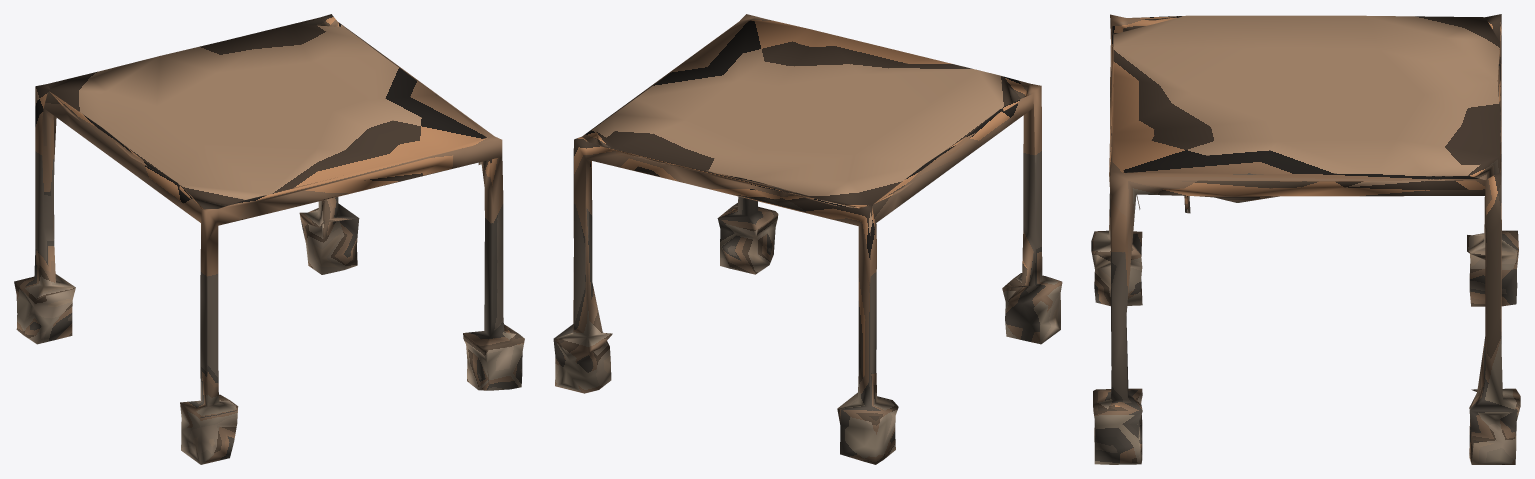
The model's file is pergola.glb.
The picture shows the model from 3 angles, left to right: view 1: azimuth 30°, elevation 25°; view 2: azimuth 150°, elevation 25°; view 3: azimuth 270°, elevation 25°; orthographic projection. The views are drawn at different scales.
Visible parts, largest first — view 1: LO; view 2: LO; view 3: LO.
Boxes of the visible parts, x1,y1,x2,y2 form: LO: (14,14,524,464); LO: (553,14,1062,464); LO: (1091,14,1520,464).
Bounding box in the file's own units: 3.99 × 2.89 × 4.
Materials: 1 (1 with a texture image).
